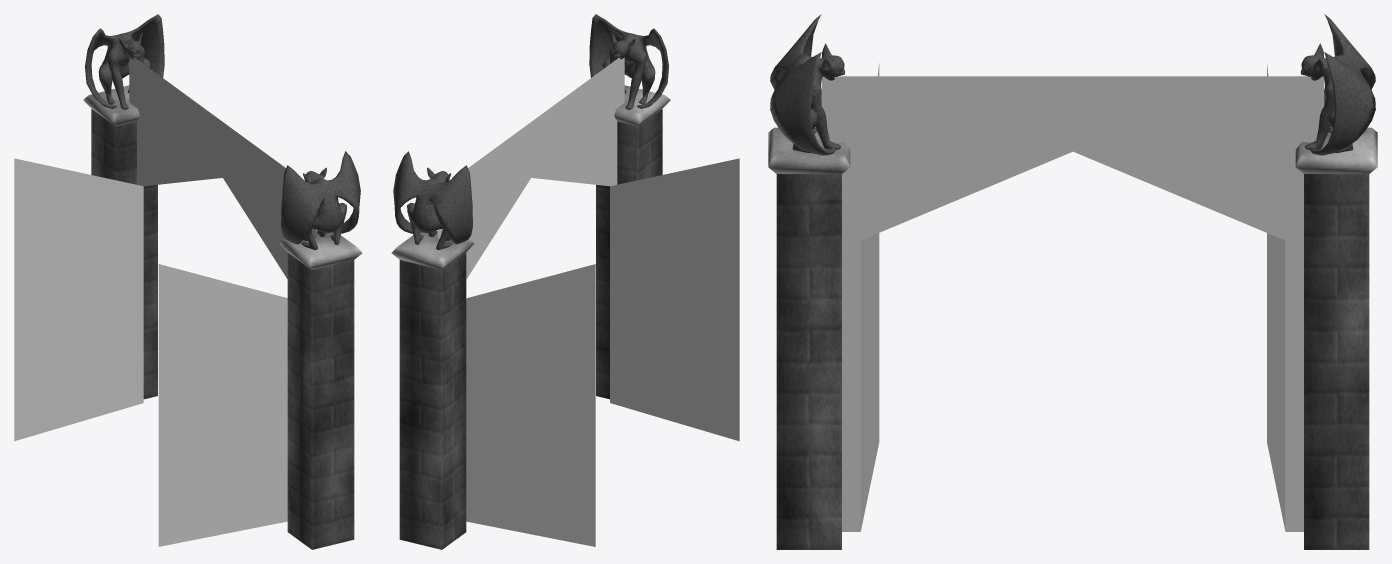
Rendered from gates.fbx.
The picture shows the model from 3 angles, left to right: view 1: azimuth 30°, elevation 25°; view 2: azimuth 150°, elevation 25°; view 3: azimuth 270°, elevation 25°; orthographic projection. The views are drawn at different scales.
Parts seen in each view (by area): view 1: Cube.001, Cube.007, Cube, Cube.004, Cube.002, Cube.005, Cube.003, Cube.006; view 2: Cube.001, Cube.007, Cube.004, Cube, Cube.005, Cube.002, Cube.006, Cube.003; view 3: Cube.001, Cube, Cube.004, Cube.007, Cube.002, Cube.005, Cube.003, Cube.006.
Part boxes in pixels (x1=…): Cube.001: x1=14, y1=57, x2=316, y2=546; Cube.007: x1=14, y1=58, x2=315, y2=546; Cube: x1=287, y1=252, x2=354, y2=549; Cube.004: x1=91, y1=109, x2=157, y2=399; Cube.002: x1=281, y1=151, x2=360, y2=249; Cube.005: x1=85, y1=14, x2=164, y2=109; Cube.003: x1=279, y1=231, x2=362, y2=269; Cube.006: x1=83, y1=85, x2=139, y2=126; Cube.001: x1=437, y1=57, x2=739, y2=546; Cube.007: x1=438, y1=59, x2=739, y2=542; Cube.004: x1=399, y1=252, x2=466, y2=549; Cube: x1=596, y1=109, x2=662, y2=399; Cube.005: x1=393, y1=151, x2=472, y2=249; Cube.002: x1=589, y1=14, x2=668, y2=109; Cube.006: x1=391, y1=231, x2=474, y2=269; Cube.003: x1=614, y1=85, x2=670, y2=126; Cube.001: x1=821, y1=63, x2=1324, y2=531; Cube: x1=776, y1=174, x2=841, y2=549; Cube.004: x1=1304, y1=174, x2=1369, y2=549; Cube.007: x1=821, y1=67, x2=1324, y2=531; Cube.002: x1=770, y1=14, x2=845, y2=155; Cube.005: x1=1300, y1=14, x2=1375, y2=155; Cube.003: x1=768, y1=127, x2=850, y2=173; Cube.006: x1=1295, y1=127, x2=1377, y2=173.
Bounding box in the file's own units: 647 × 1315 × 1444.
